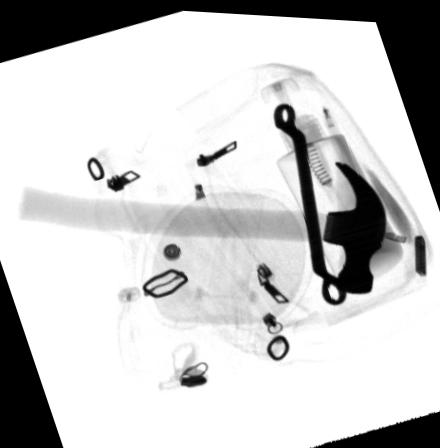Hammer: (20, 156, 387, 290)
Wrench: (275, 99, 347, 302)
